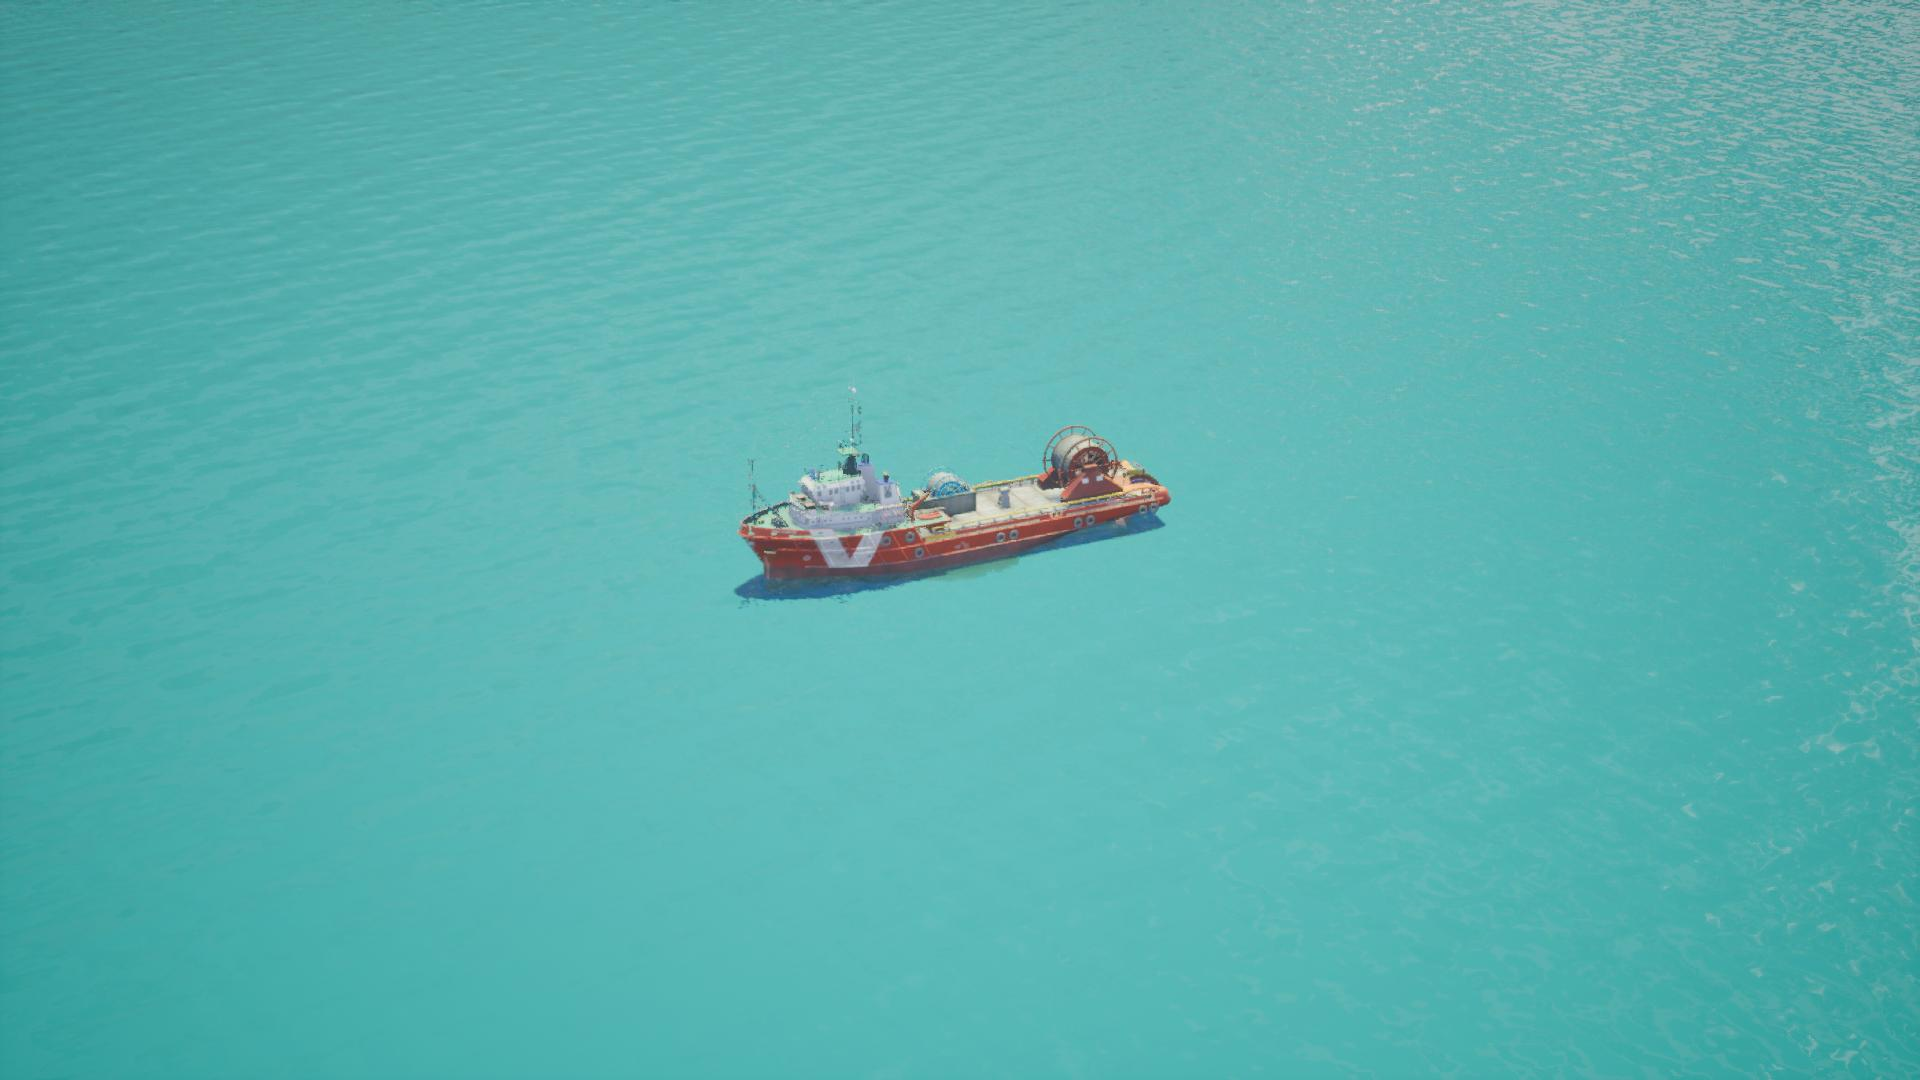Tug Boat: (737, 389, 1168, 600)
